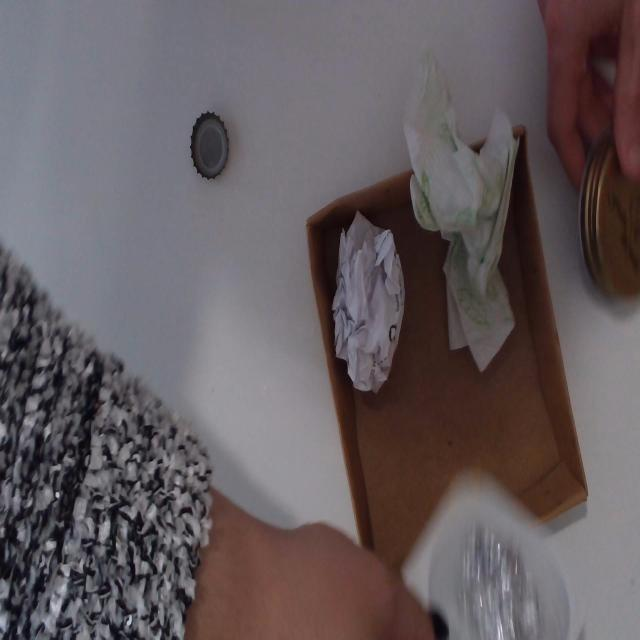Paper: (410, 61, 519, 374), (337, 216, 406, 393)
